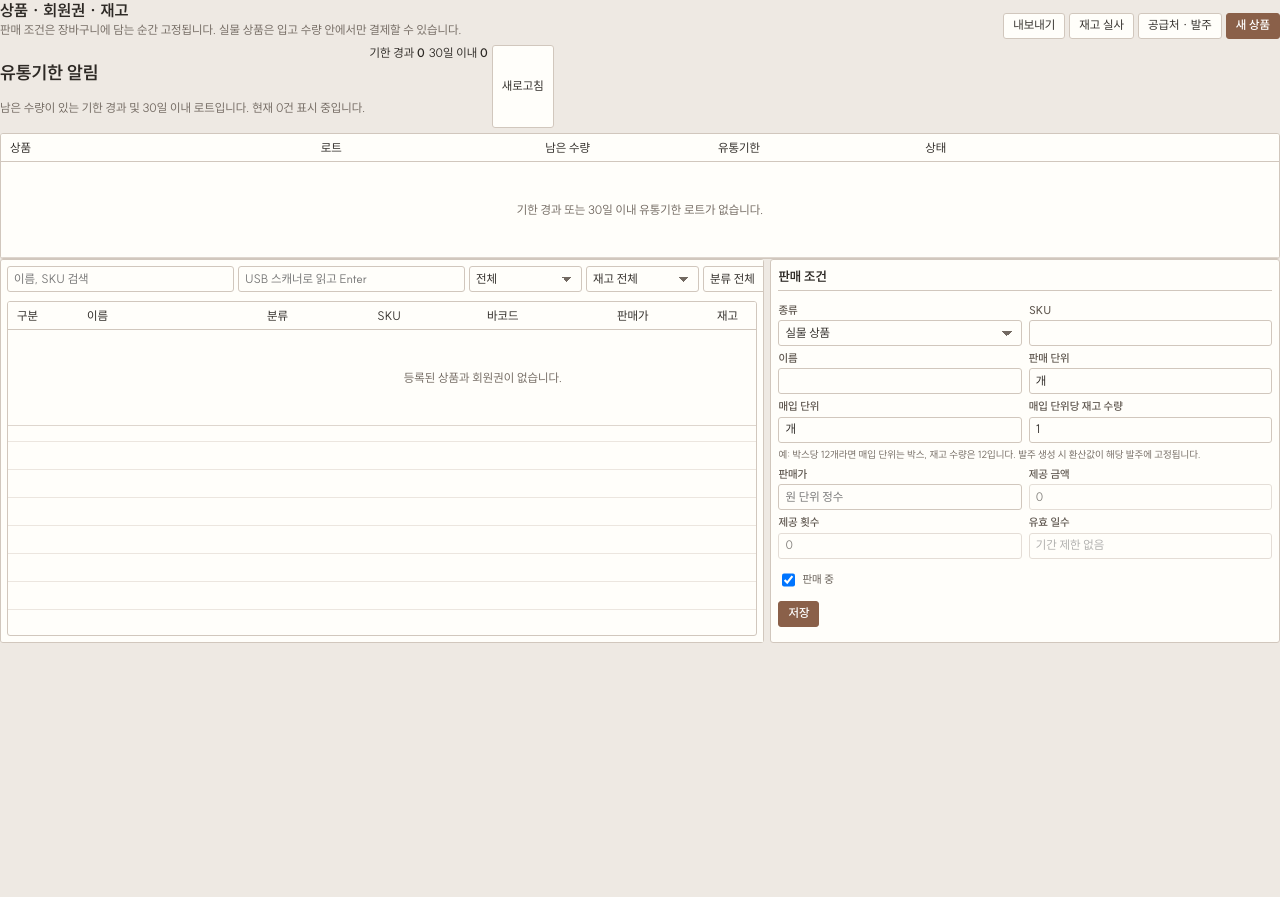
Test: InventoryPage › 새 상품을 만들면 목록에 추가하고 멱등 키를 보낸다
expect the text "등록된 상품과 회원권이 없습니다." is shown: met, box x1=8 y1=330 x2=757 y2=426
Type "SKU-1" into the field labelled "SKU" at coordinates (1150, 333), box x1=1029 y1=320 x2=1272 y2=346
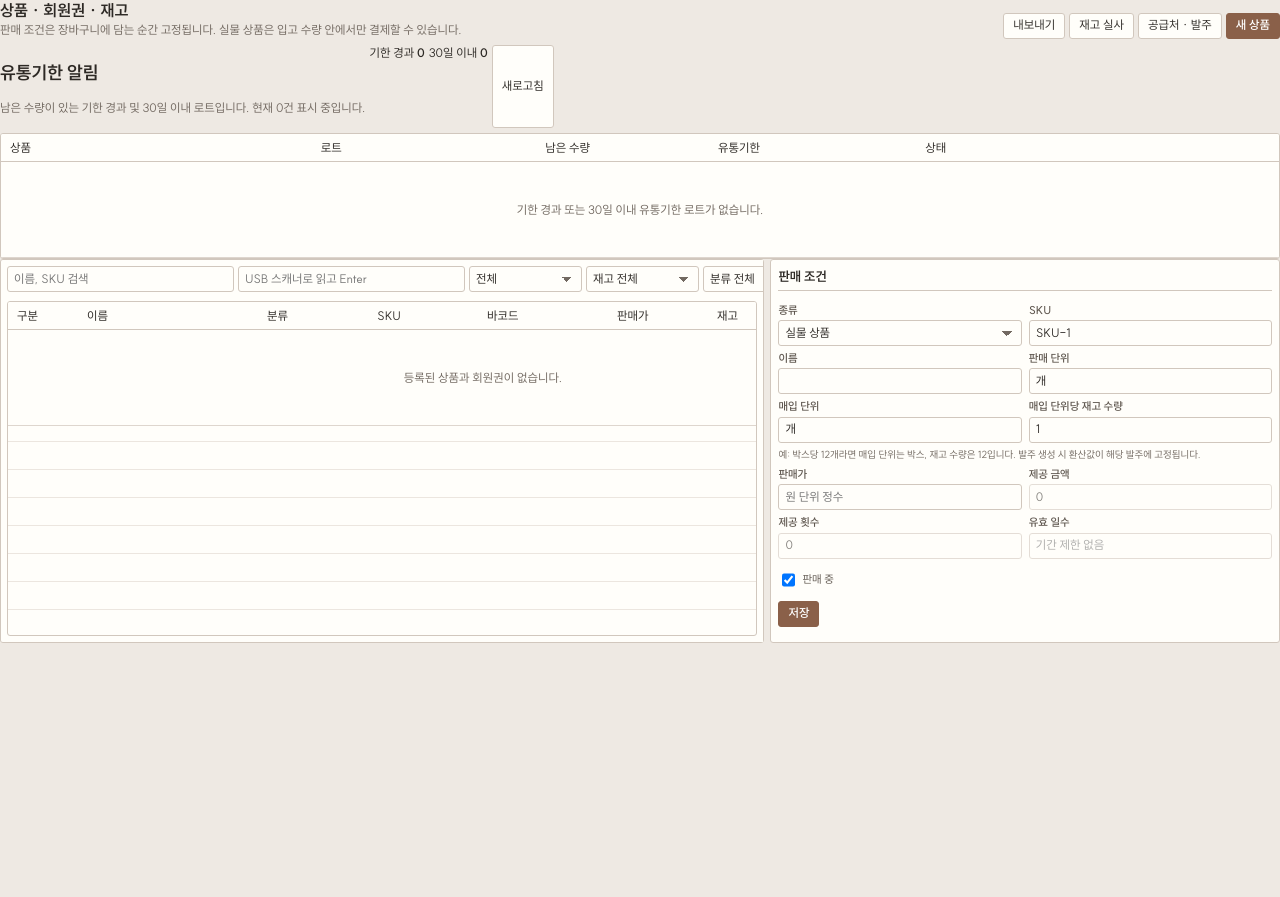
Type "보습 크림" into the field labelled "이름" at coordinates (900, 381), box x1=778 y1=368 x2=1022 y2=394
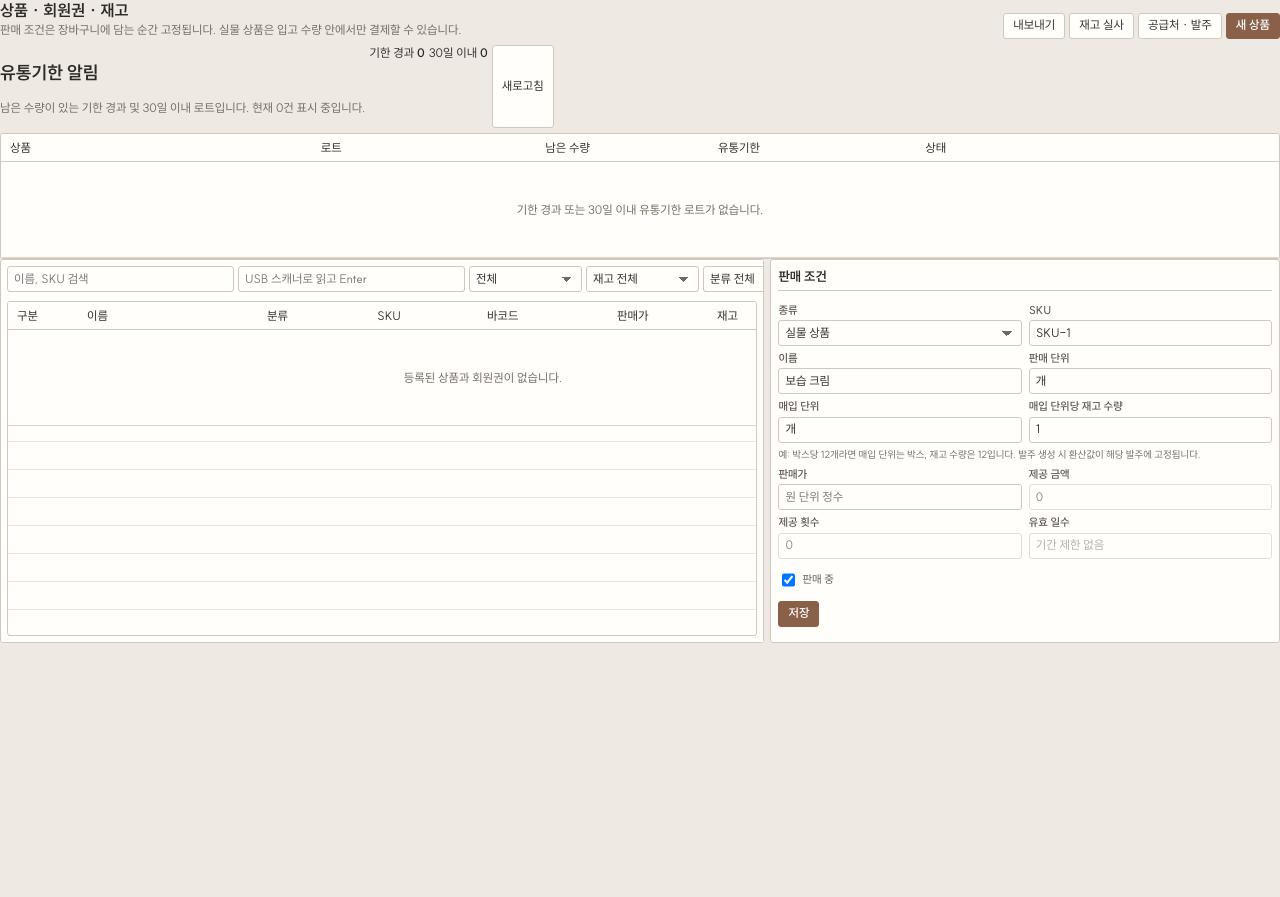
Type "30000" into the field labelled "판매가" at coordinates (900, 497), box x1=778 y1=484 x2=1022 y2=510
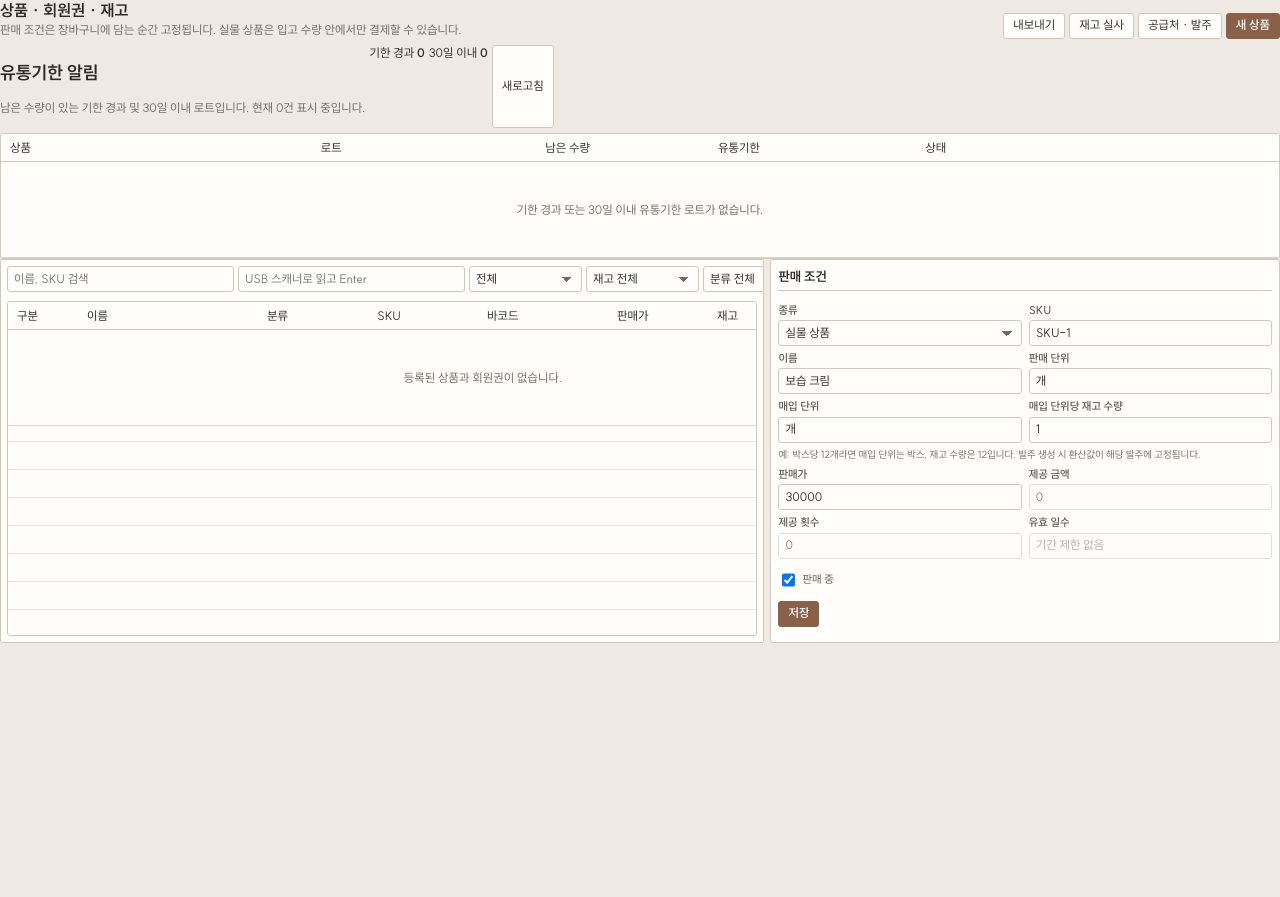
Click the button "저장" at coordinates (799, 614), box x1=778 y1=601 x2=819 y2=627
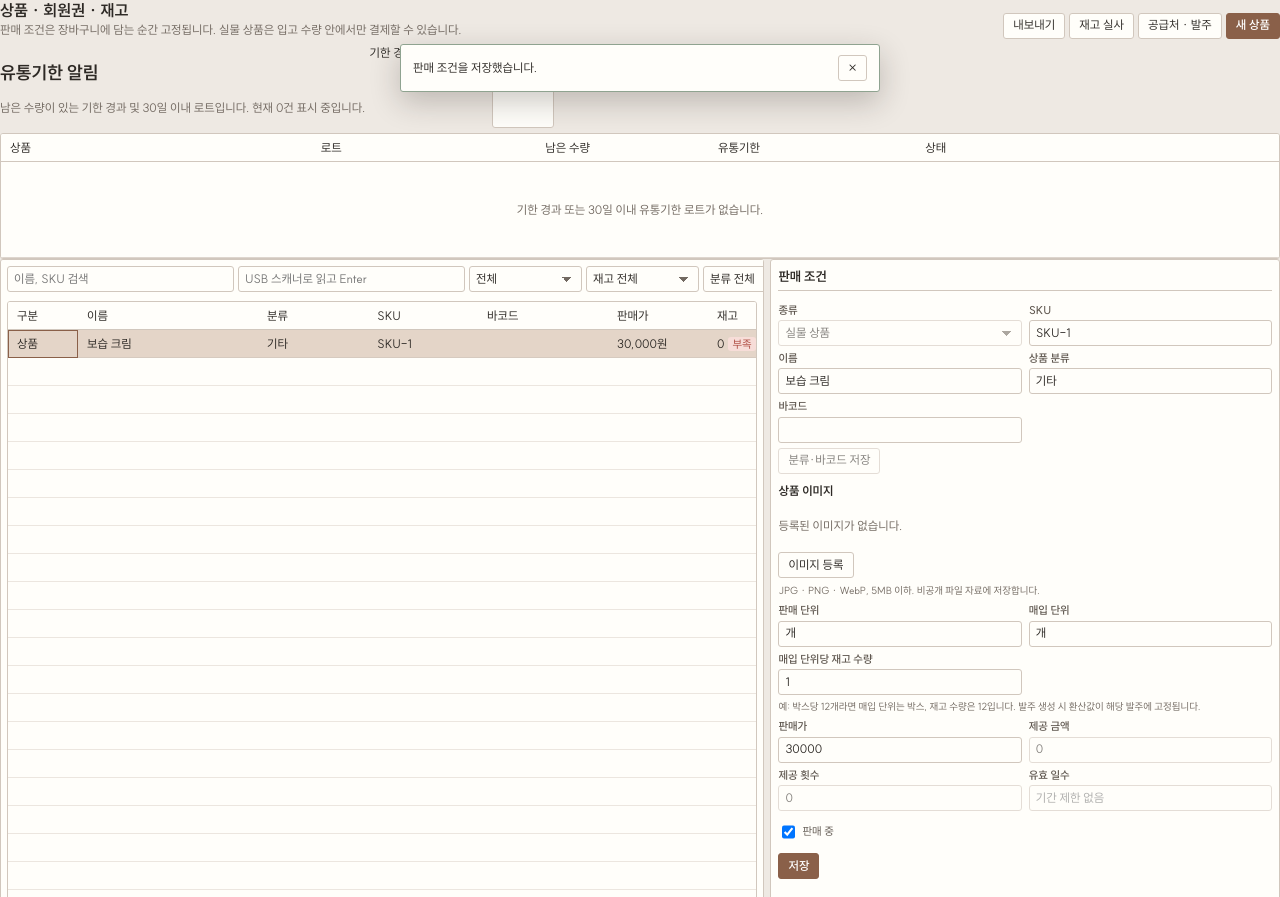
expect the text "보습 크림" is shown: met, box x1=78 y1=330 x2=258 y2=358
expect the text "판매 조건을 저장했습니다." is shown: met, box x1=413 y1=60 x2=537 y2=75
